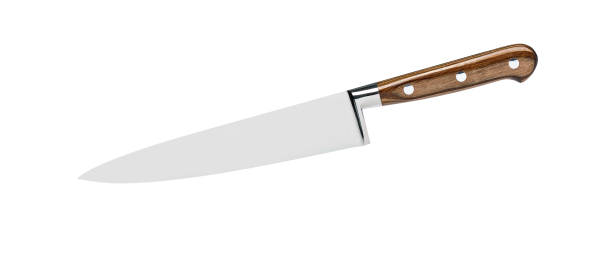knife: (76, 43, 539, 184)
